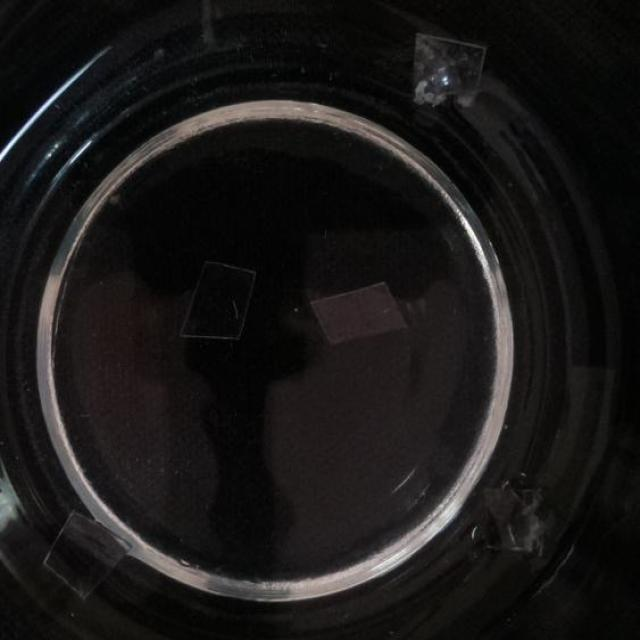fiber: (42, 505, 134, 602), (465, 477, 560, 561), (308, 276, 407, 350), (177, 257, 257, 346), (410, 27, 485, 112)
